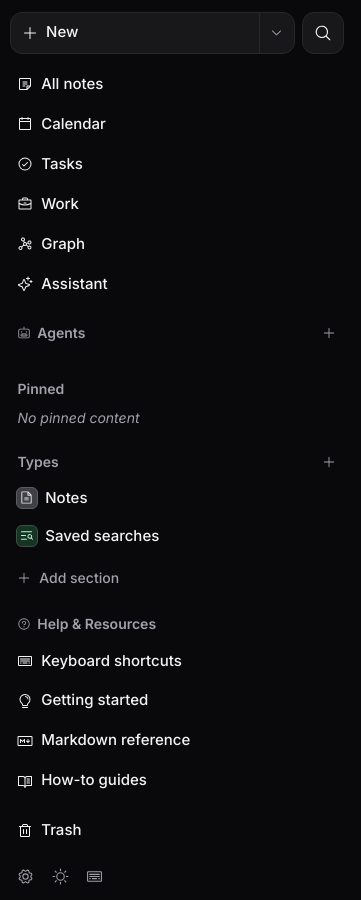
Help & Resources (sidebar) › folds like the other sections, and the fold persists
Later steps or results of the test are not shown.
Click the button "Help & Resources" at (97, 624), box [10, 609, 344, 638]
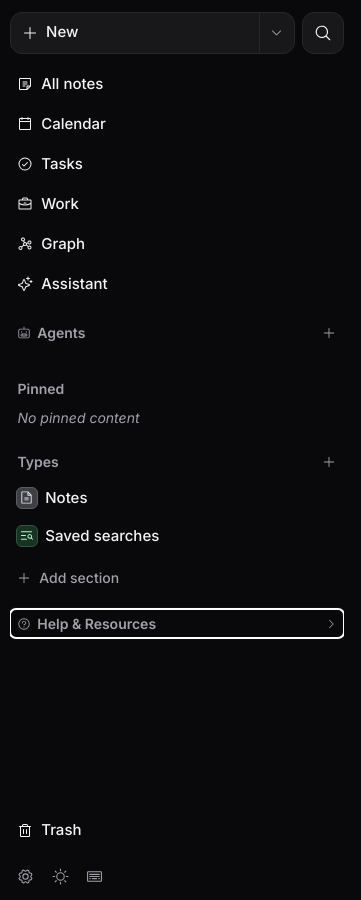
Now the button "Getting started" is gone
